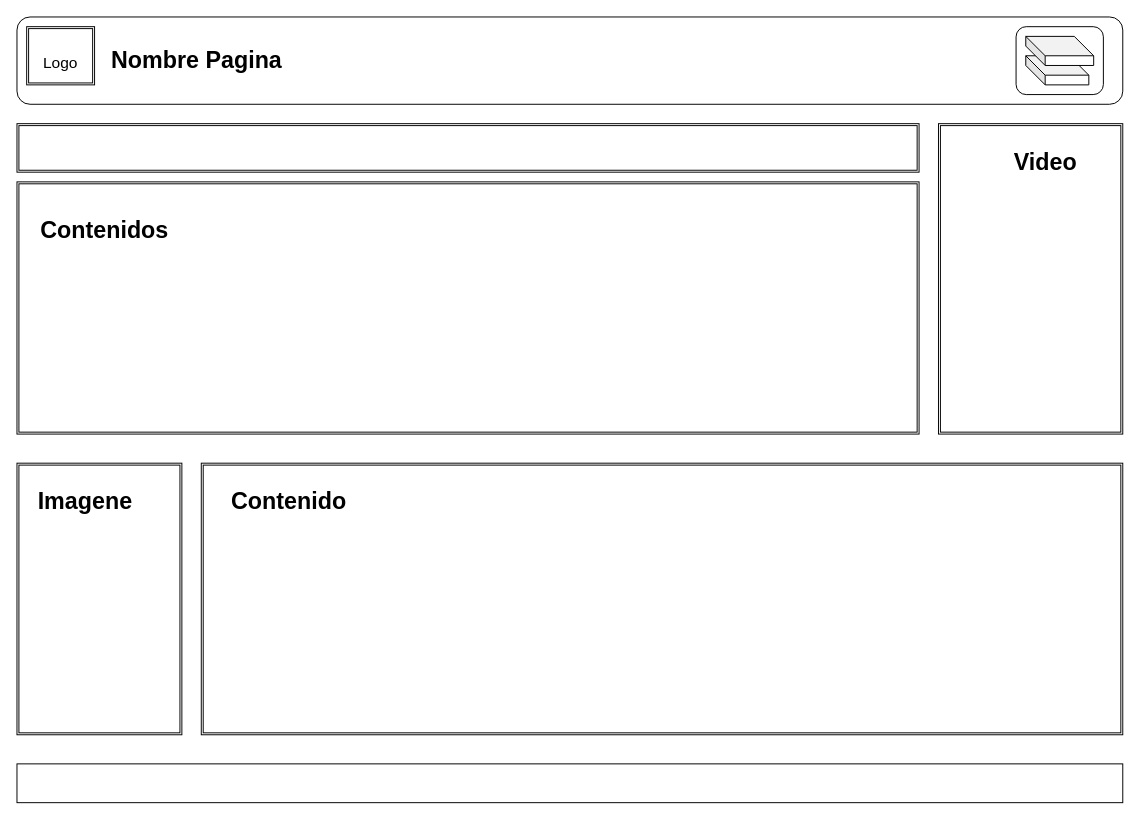
Image size: 1140x820. Some labels were removed from this diagram. The shapes that lost their labels are listed below. From the top down, each one's centre as x and y in pixels, then its label:
point (467, 147): Titulos
point (569, 783): Pie de Pagina e Info de Contacto
